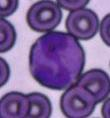E: (28, 31, 86, 90)
